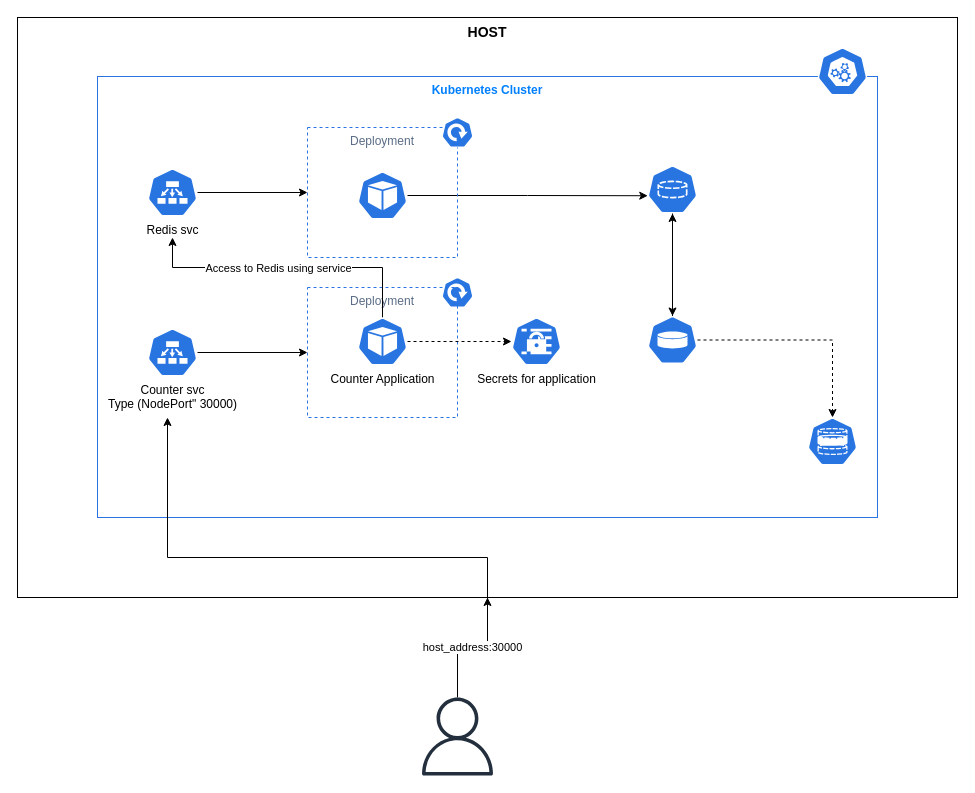
Some shapes in this 975 by 793 pixel diagram are drawn without their labels. Each missing label, with the box of its shape:
Persistance Volume (persistentVolumeReclaimPolicy: Retain ): (646, 315, 698, 364)
Persistance Volume Claim: (646, 164, 698, 214)
Redis: (356, 170, 408, 220)
Storage Class: (806, 416, 858, 466)
